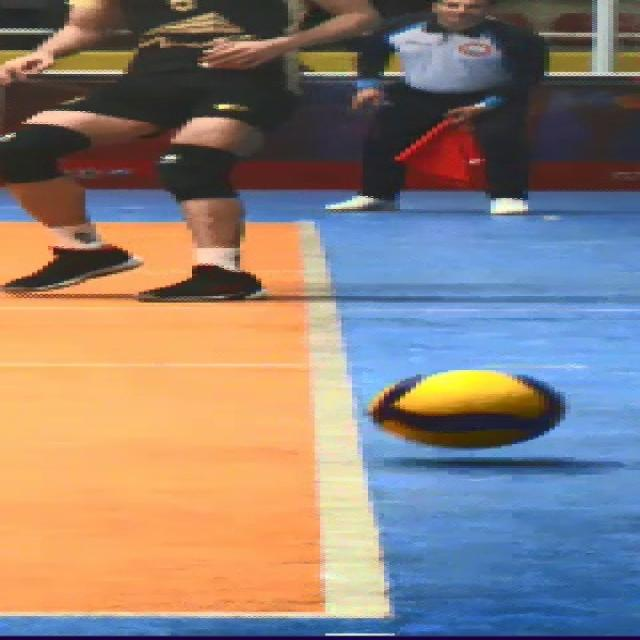Volleyball: (371, 368, 567, 448)
